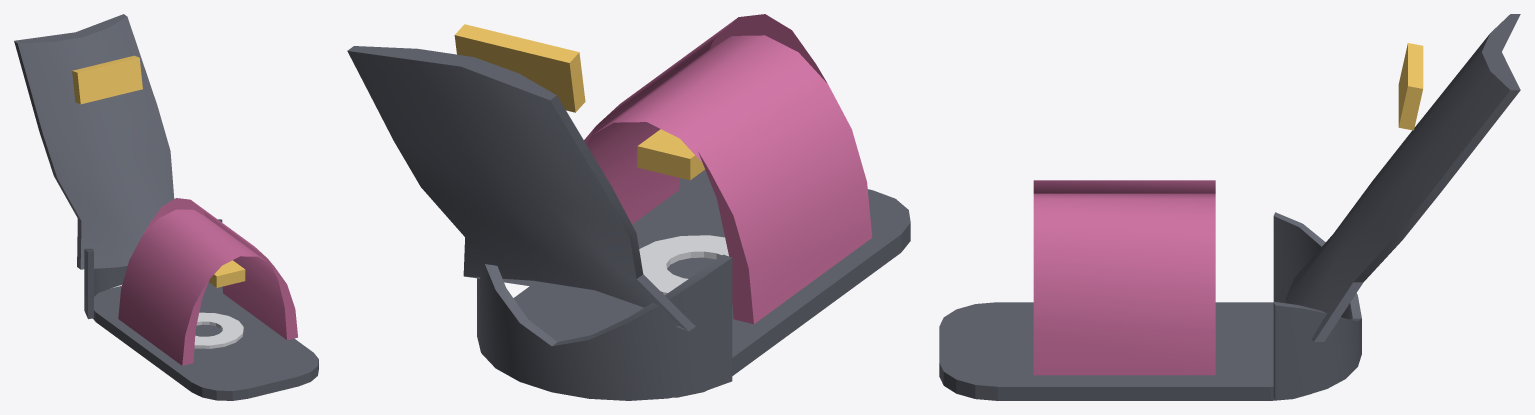
File: snowboard-gear-and-freestyle-riders-rear-entry-binding-d9f6b20b__27145.glb
3 renders of one model, left to right at view 1: azimuth 30°, elevation 25°; view 2: azimuth 150°, elevation 25°; view 3: azimuth 270°, elevation 25°, orthographic. The views are drawn at different scales.
Visible parts, largest first — view 1: rear-entry-binding; view 2: rear-entry-binding; view 3: rear-entry-binding.
Boxes of the visible parts, <box> form: rear-entry-binding: <box>14,14,318,400</box>; rear-entry-binding: <box>347,14,910,400</box>; rear-entry-binding: <box>939,14,1520,400</box>.
Size of the model in its own units: 0.1696 by 0.26 by 0.447.
